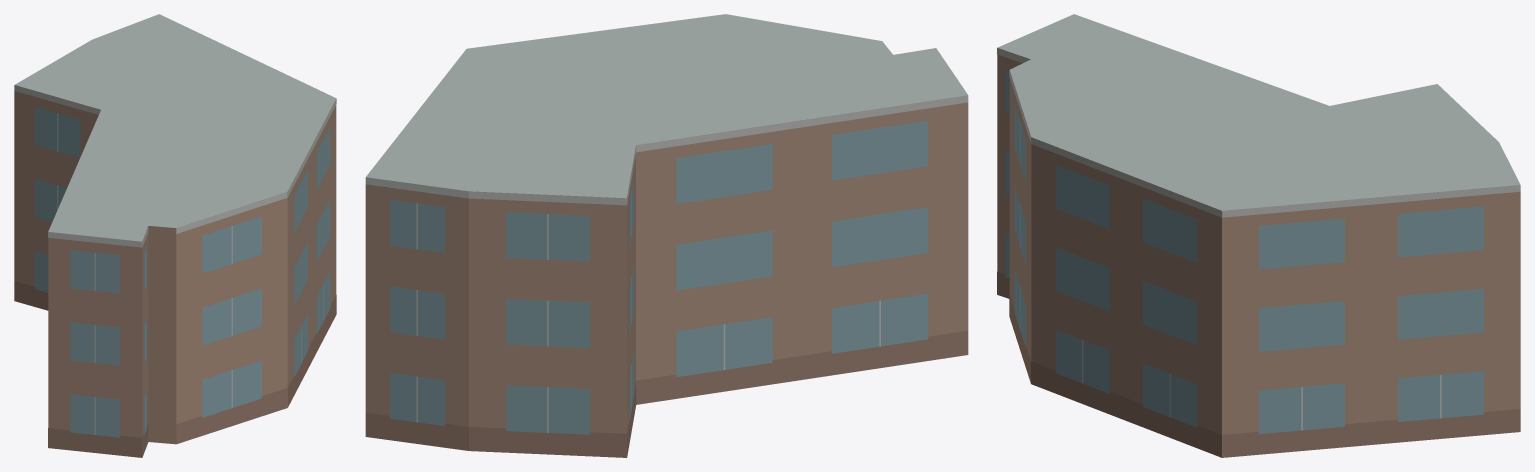
File: survey-upis-32680431.glb
3 views of the same model, side by side, from view 1: azimuth 30°, elevation 25°; view 2: azimuth 150°, elevation 25°; view 3: azimuth 270°, elevation 25° (orthographic). The views are drawn at different scales.
Parts seen in each view (by area): view 1: survey-upis-32680431.tmp; view 2: survey-upis-32680431.tmp; view 3: survey-upis-32680431.tmp.
Part boxes in pixels (x1,y1,x2,y2): survey-upis-32680431.tmp: (14, 14, 336, 457); survey-upis-32680431.tmp: (365, 14, 968, 457); survey-upis-32680431.tmp: (997, 14, 1520, 457).
Size of the model in its own units: 15.19 by 8.88 by 17.07.
